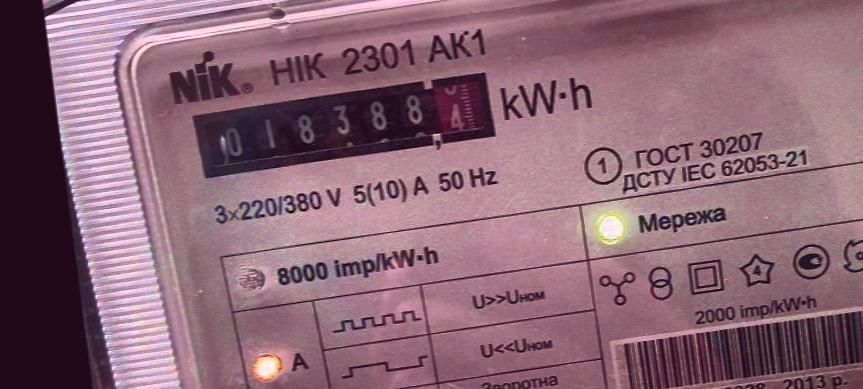0: (219, 124, 244, 162)
1: (256, 115, 279, 154)
3: (329, 103, 353, 140)
4: (442, 100, 466, 136)
8: (291, 111, 317, 149), (364, 99, 389, 137), (400, 92, 425, 130)
screen: (181, 63, 508, 193)
